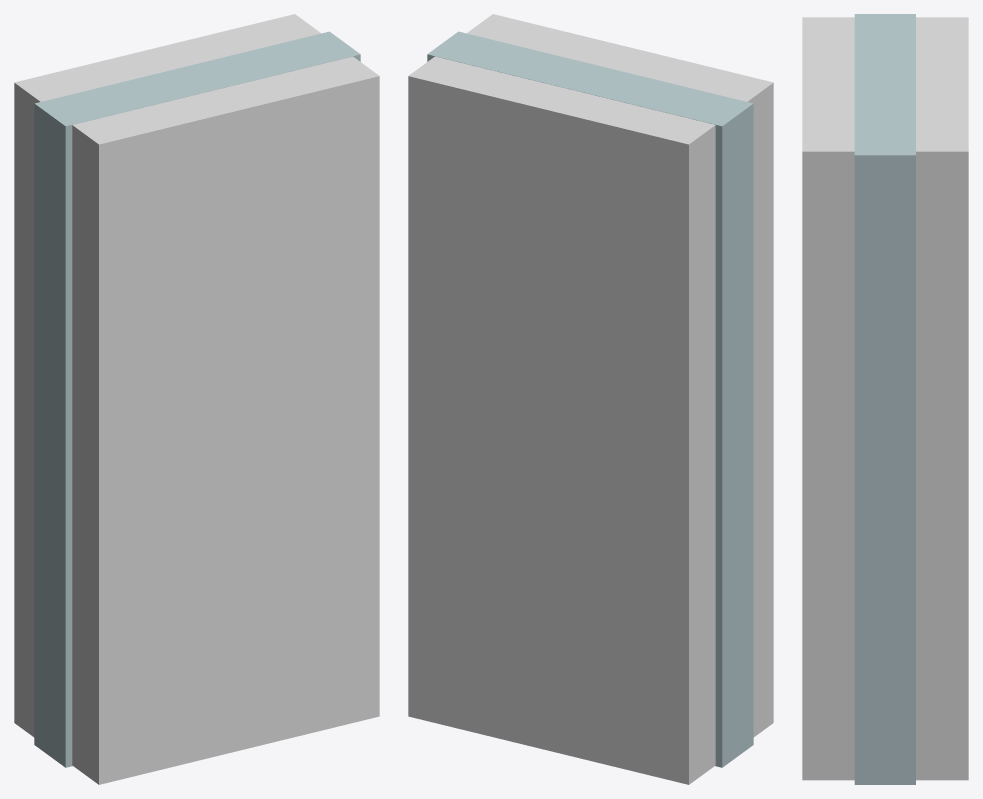
3 renders of one model, left to right at view 1: azimuth 30°, elevation 25°; view 2: azimuth 150°, elevation 25°; view 3: azimuth 270°, elevation 25°, orthographic.
Parts seen in each view (by area): view 1: cutout, door; view 2: cutout, door; view 3: cutout, door.
Part boxes in pixels (x1,y1,x2,y2): cutout: [14, 14, 379, 784]; door: [34, 31, 360, 767]; cutout: [408, 14, 773, 784]; door: [427, 31, 753, 767]; cutout: [802, 17, 968, 780]; door: [854, 14, 915, 784].
Bounding box in the file's own units: 0.486 × 1.01 × 0.2419.
